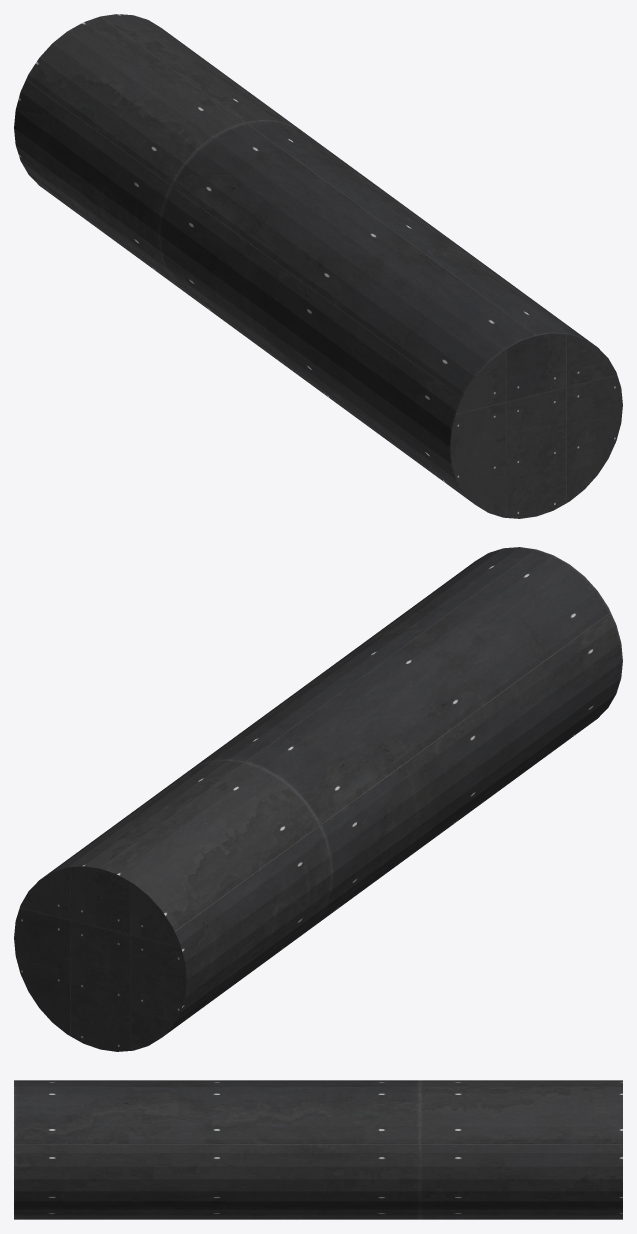
Rendered from machine_c1.glb.
3 renders of one model, top to bottom at view 1: azimuth 30°, elevation 25°; view 2: azimuth 150°, elevation 25°; view 3: azimuth 270°, elevation 25°, orthographic. The views are drawn at different scales.
Visible parts, largest first — view 1: Cylinder; view 2: Cylinder; view 3: Cylinder.
Part boxes in pixels (<box>): Cylinder: <box>14,14,622,518</box>; Cylinder: <box>14,547,622,1051</box>; Cylinder: <box>14,1080,622,1219</box>.
Bounding box in the file's own units: 0.7019 × 0.7019 × 3.07.
Materials: 1 (1 with a texture image).
